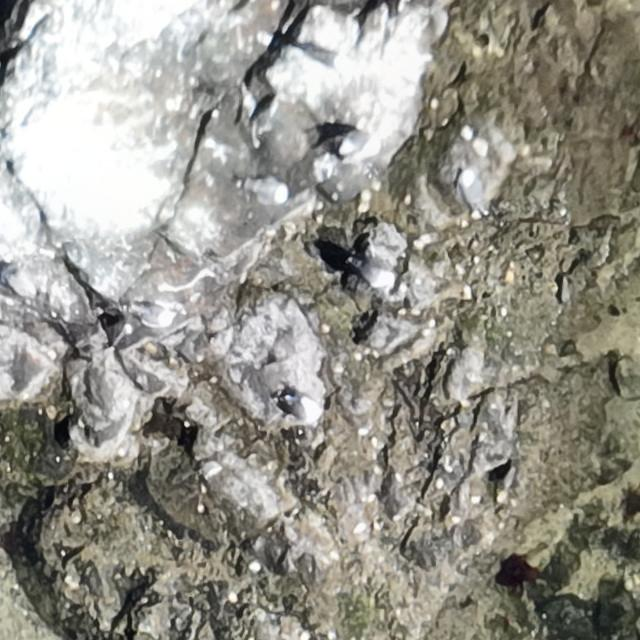umineko: (128, 298, 182, 328), (334, 126, 371, 162), (284, 396, 313, 418)
